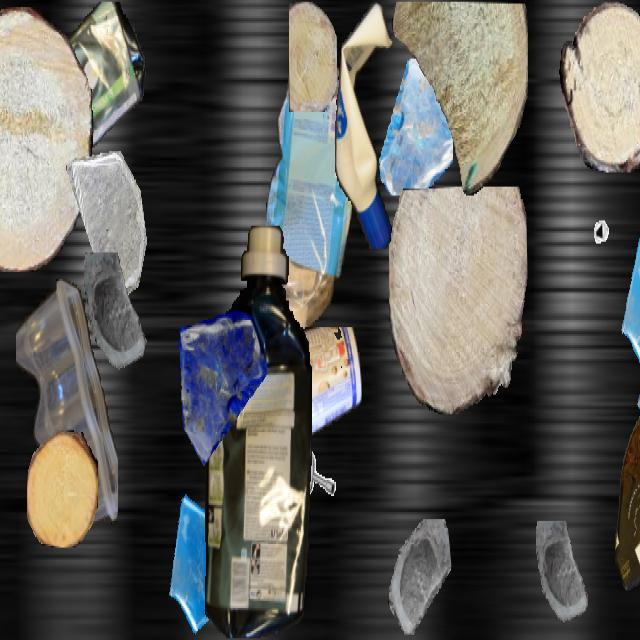glass: (173, 306, 267, 473), (165, 478, 255, 638), (66, 151, 150, 301), (79, 253, 157, 391), (376, 58, 452, 194), (531, 521, 597, 638), (387, 519, 451, 633), (619, 220, 640, 384), (637, 338, 640, 452)
metal: (294, 448, 342, 533), (591, 190, 629, 258)
plastic: (204, 226, 312, 638), (266, 62, 352, 372), (0, 2, 147, 183), (16, 279, 118, 532), (335, 2, 399, 247), (262, 327, 362, 452), (615, 398, 640, 590)
wood: (389, 187, 527, 414), (392, 2, 528, 194), (0, 7, 92, 270), (559, 2, 640, 172), (27, 430, 97, 548), (289, 2, 337, 112)
